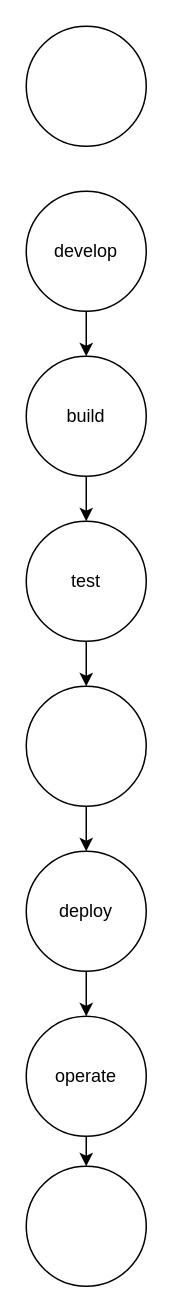
Some shapes in this 173 by 1313 pixel diagram are drawn without their labels. The shapes that lost their labels are listed below. From the top down, each one's box as (x1, y1, x2, y2) in pixels, then its label:
(25, 25, 146, 146): plan
(25, 685, 146, 806): release
(25, 1165, 146, 1286): maintaine
